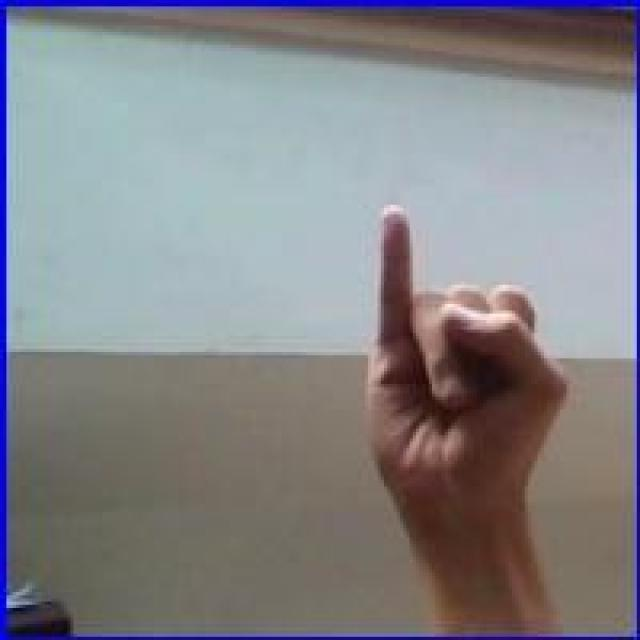I: (363, 198, 578, 548)
